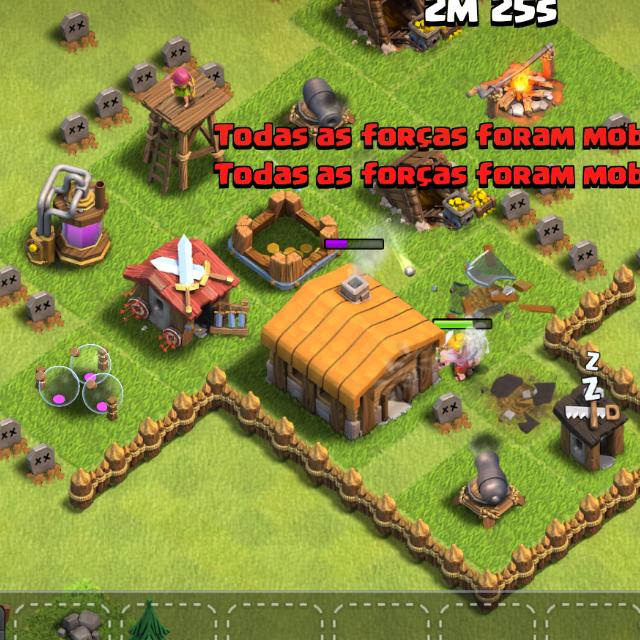Arqueira: (146, 64, 227, 194)
Canhao: (458, 451, 524, 529), (288, 74, 356, 132)
